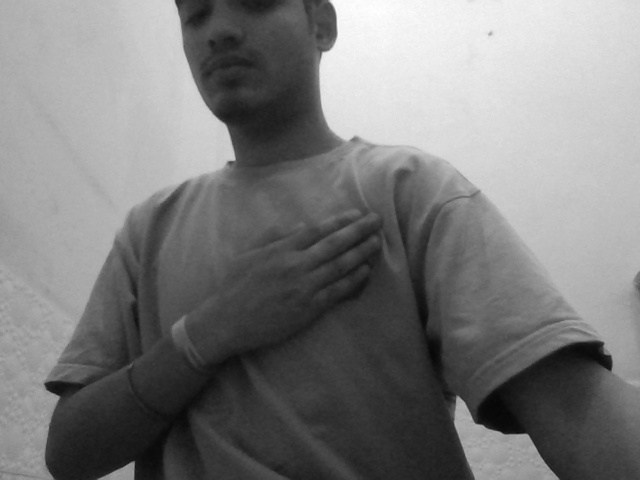Sorry: (206, 202, 396, 378)
